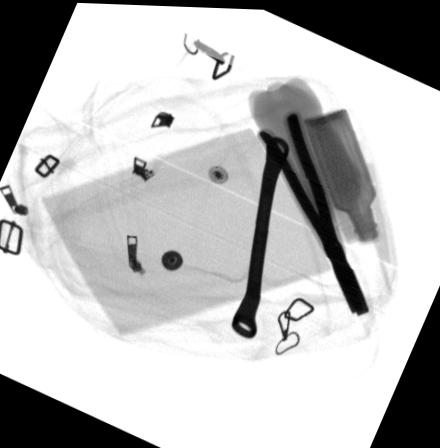Pliers: (254, 110, 373, 314)
Wrench: (227, 132, 292, 338)
